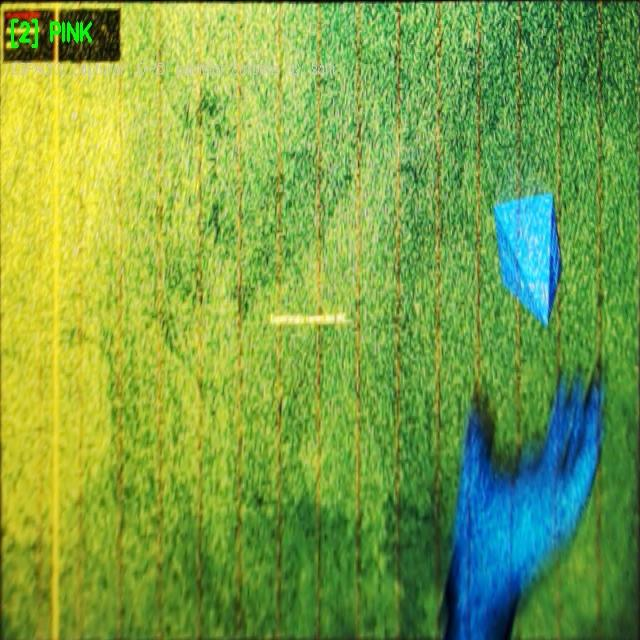pink: (494, 193, 561, 325)
